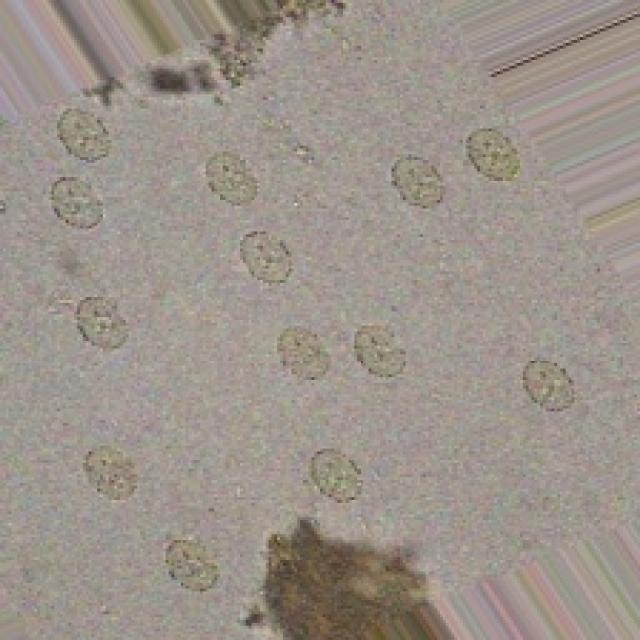Amoeba: (26, 99, 604, 614)
